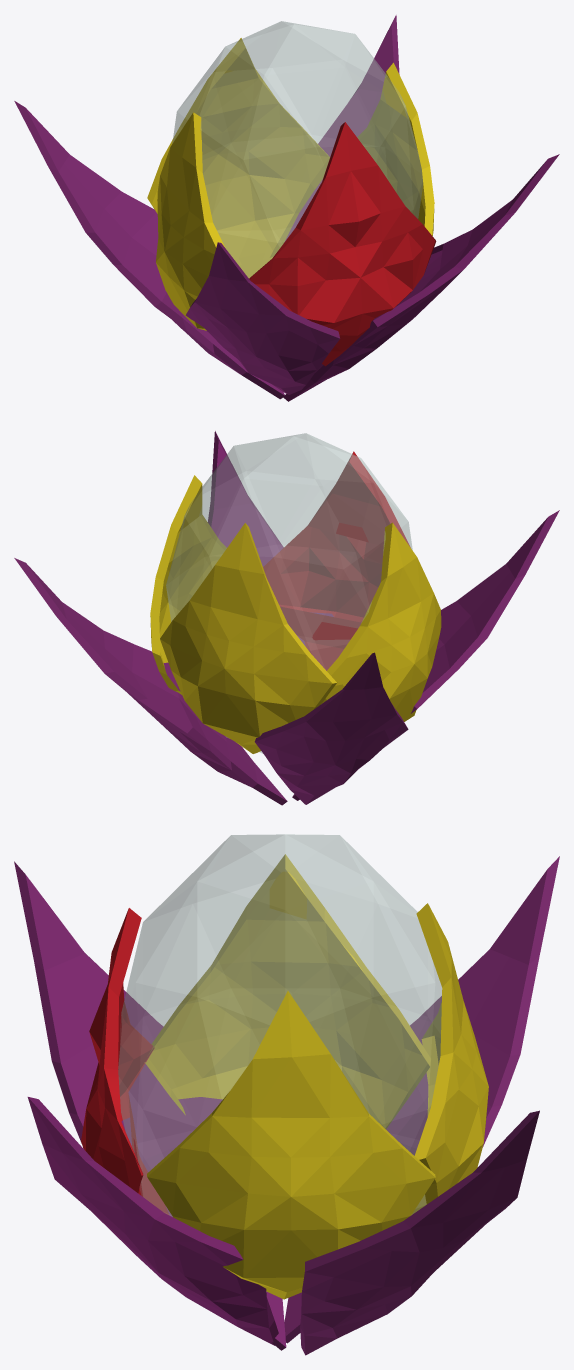
The model's file is krakenEgg.fbx.
3 renders of one model, top to bottom at view 1: azimuth 30°, elevation 25°; view 2: azimuth 150°, elevation 25°; view 3: azimuth 270°, elevation 25°, orthographic. The views are drawn at different scales.
Visible parts, largest first — view 1: krakenEgg; view 2: krakenEgg; view 3: krakenEgg.
Part boxes in pixels (bbox=[...]): krakenEgg: bbox=[14, 15, 559, 401]; krakenEgg: bbox=[14, 431, 559, 805]; krakenEgg: bbox=[14, 834, 559, 1355].
Bounding box in the file's own units: 502 × 476 × 455.
